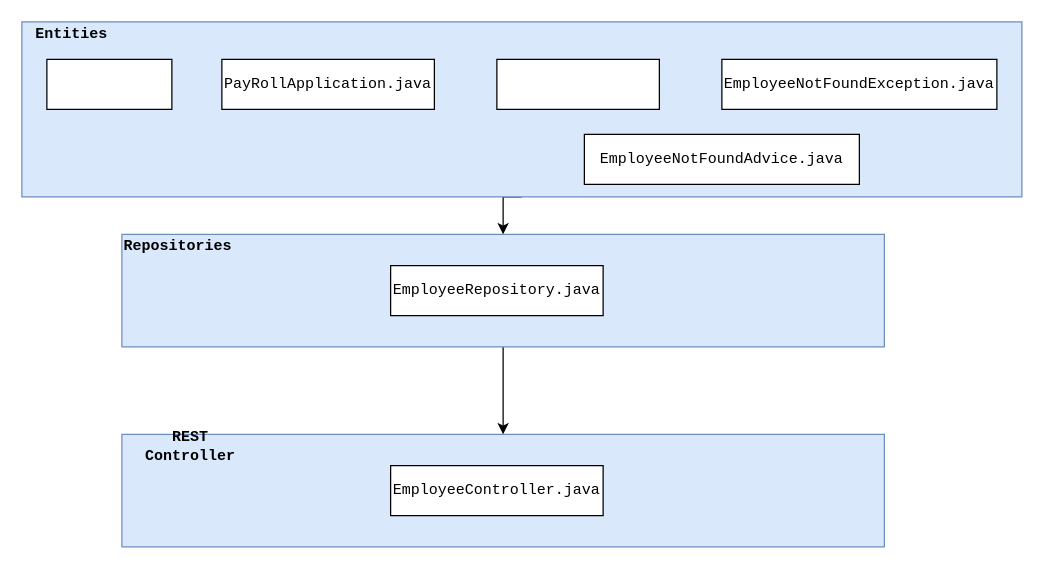
Some shapes in this 1044 by 569 pixel diagram are drawn without their labels. The centre of each missing label's shape, as x and y in pixels:
Employee.java: point 109,83
LoadDatabase.java: point 577,83
